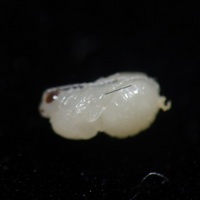insect: (39, 72, 170, 139)
